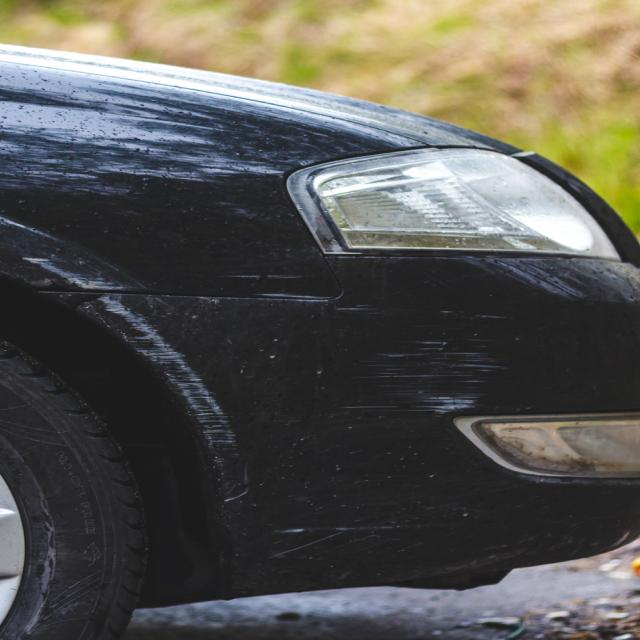scratch: (73, 294, 244, 468), (354, 308, 517, 423), (14, 255, 123, 290)
